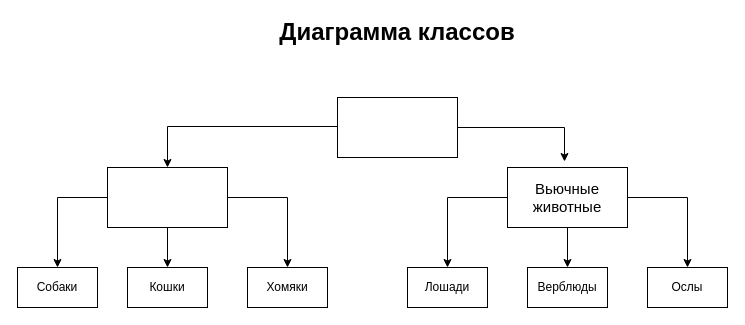
Some shapes in this 745 by 325 pixel diagram are drawn without their labels. The shapes that lost their labels are listed below. From the top down, each one's box as (x1, y1, x2, y2) in pixels, then its label:
(336, 96, 458, 158): Животные
(106, 166, 228, 228): Домашние животные
